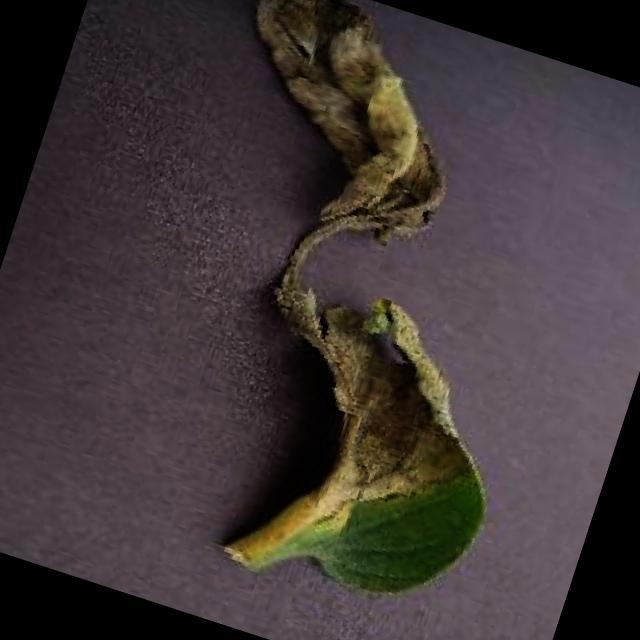Tomato late blight leaf: (96, 0, 625, 625)
